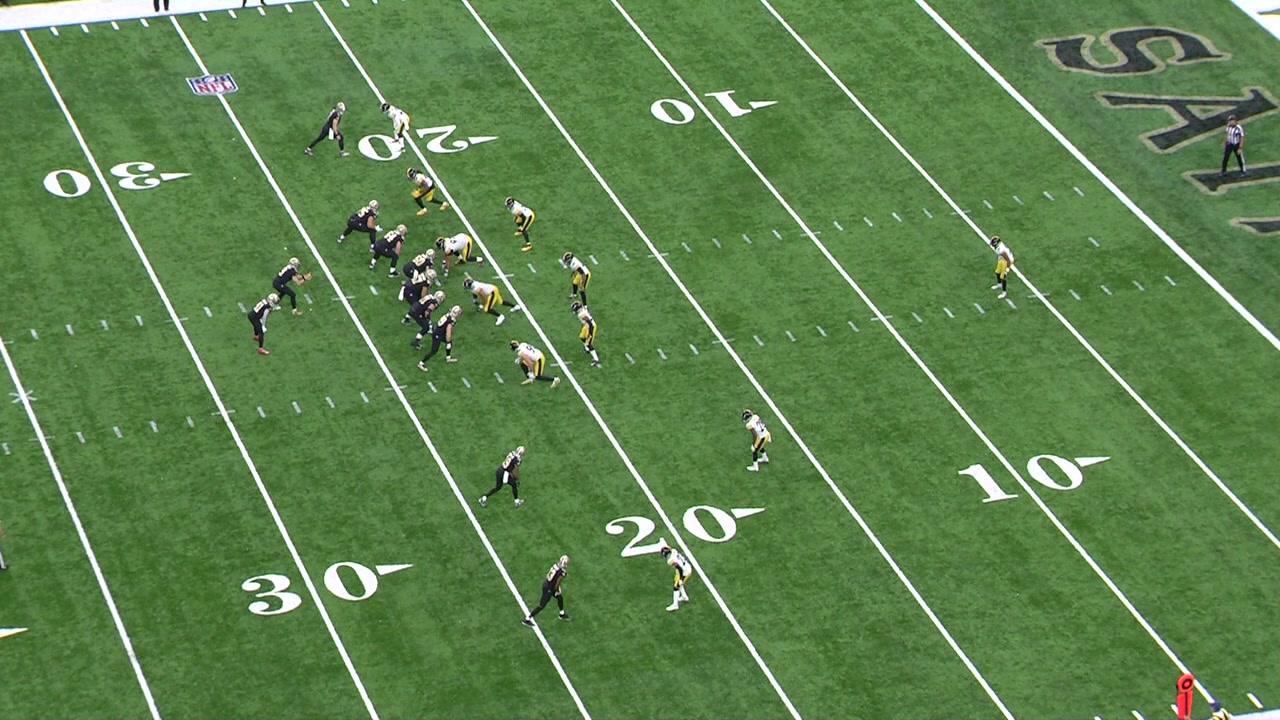player: (520, 553, 574, 630), (476, 444, 529, 511), (416, 303, 464, 374), (462, 277, 523, 329), (400, 288, 448, 353), (507, 338, 563, 390), (303, 100, 351, 160), (336, 198, 384, 253), (271, 255, 314, 316), (434, 231, 486, 280), (404, 165, 451, 218), (659, 544, 695, 613), (368, 222, 410, 279), (739, 406, 773, 473), (570, 298, 602, 369), (247, 290, 279, 357), (503, 195, 537, 254), (560, 250, 592, 309), (378, 101, 411, 155), (989, 235, 1015, 301), (402, 248, 442, 289), (398, 268, 439, 307)
ref: (1218, 114, 1250, 180)
